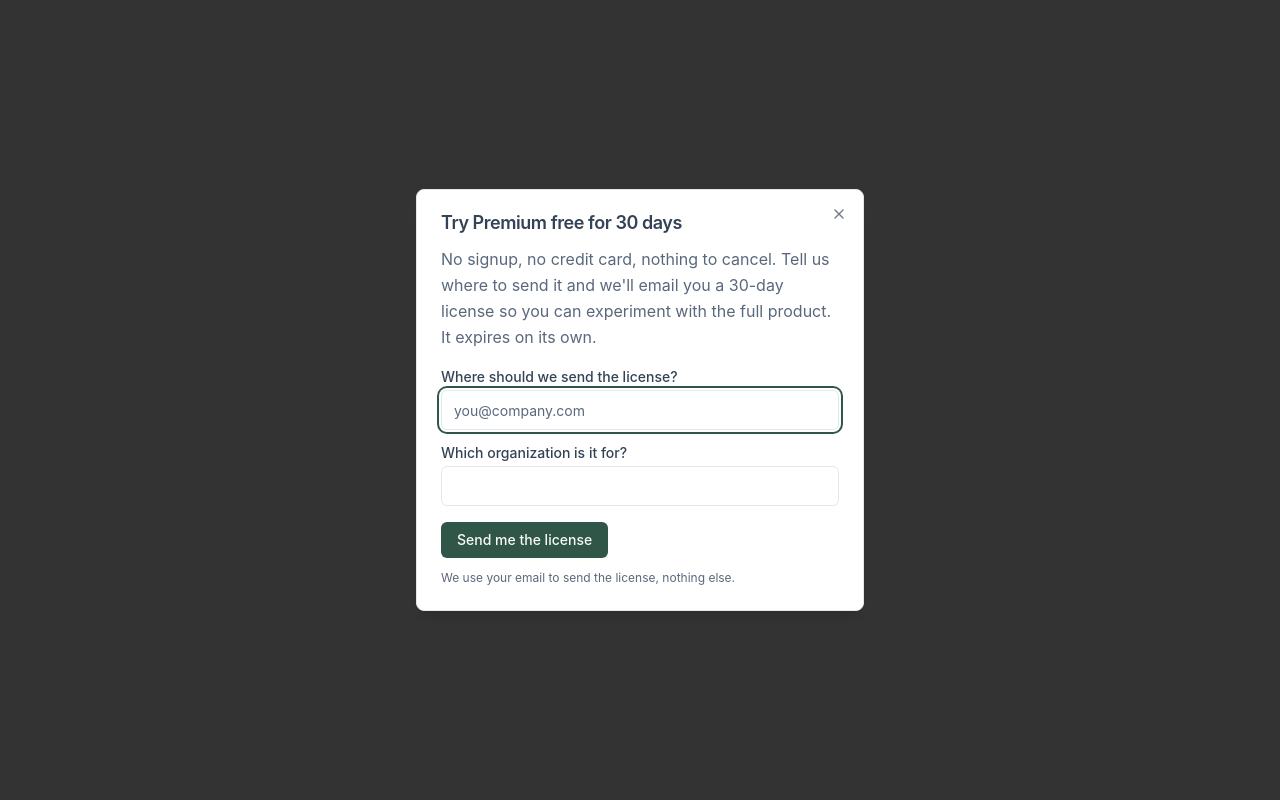
the trial request dialog › refuses a bad email with a message about the license, not about a form
Step 1. Type "not-an-email" into the field labelled "Where should we send the license?" → (640, 410), box [441,390,839,430]
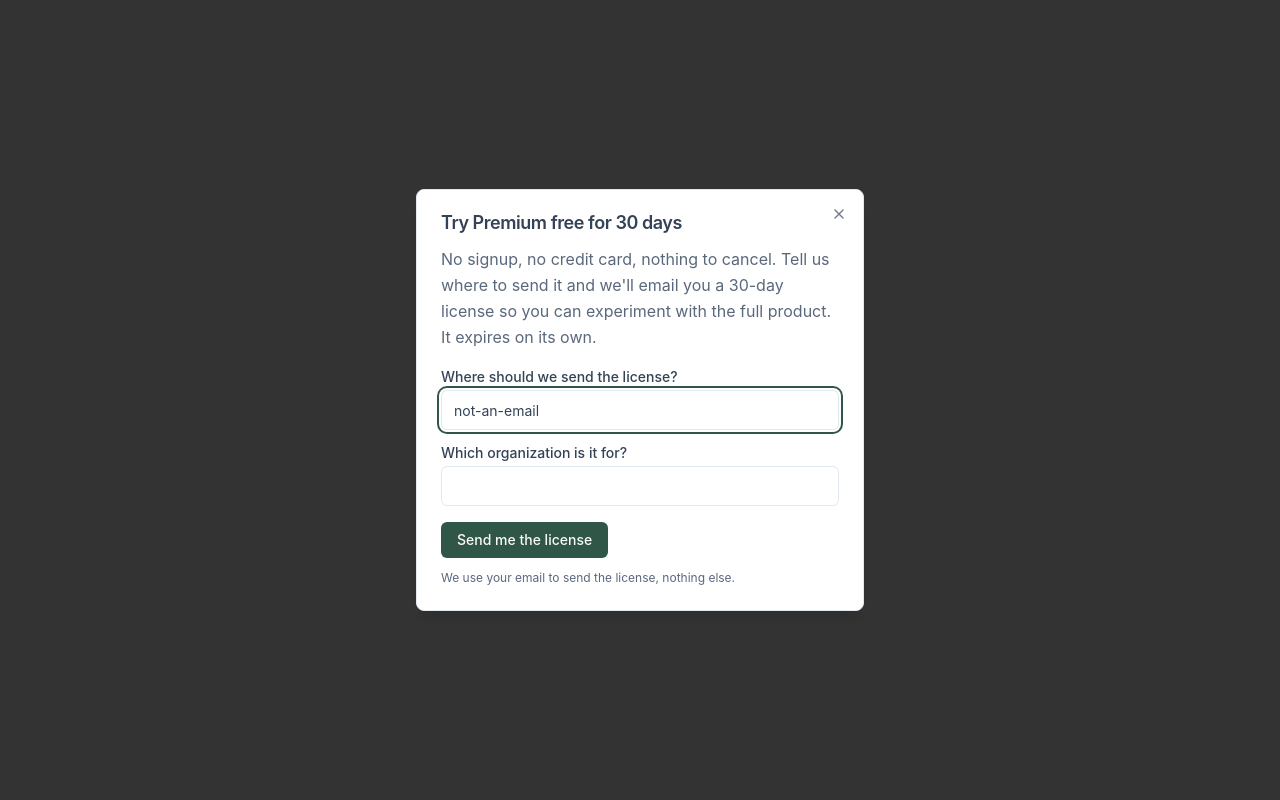
Step 2. Click the button "Send me the license" → (525, 540), box [441,522,608,558]
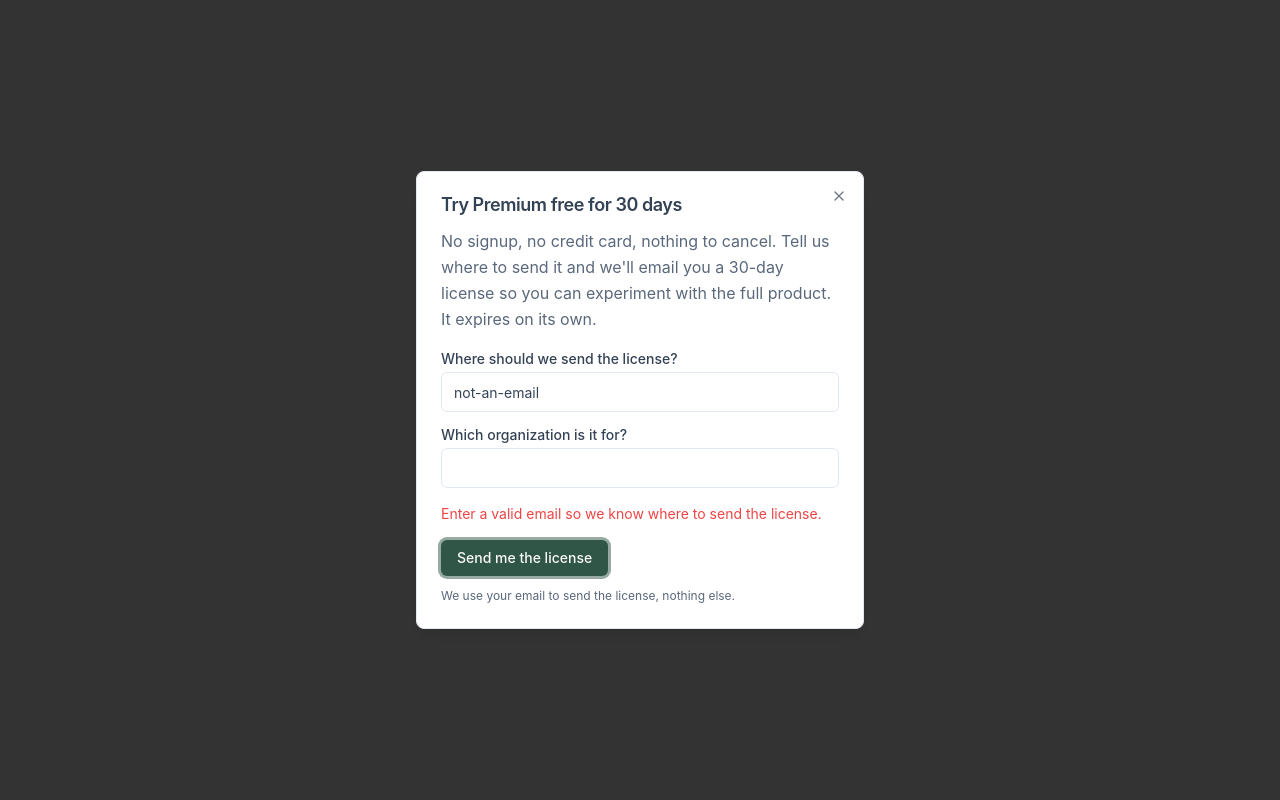
Result: the message shows "valid email" at [441,505,822,522]
